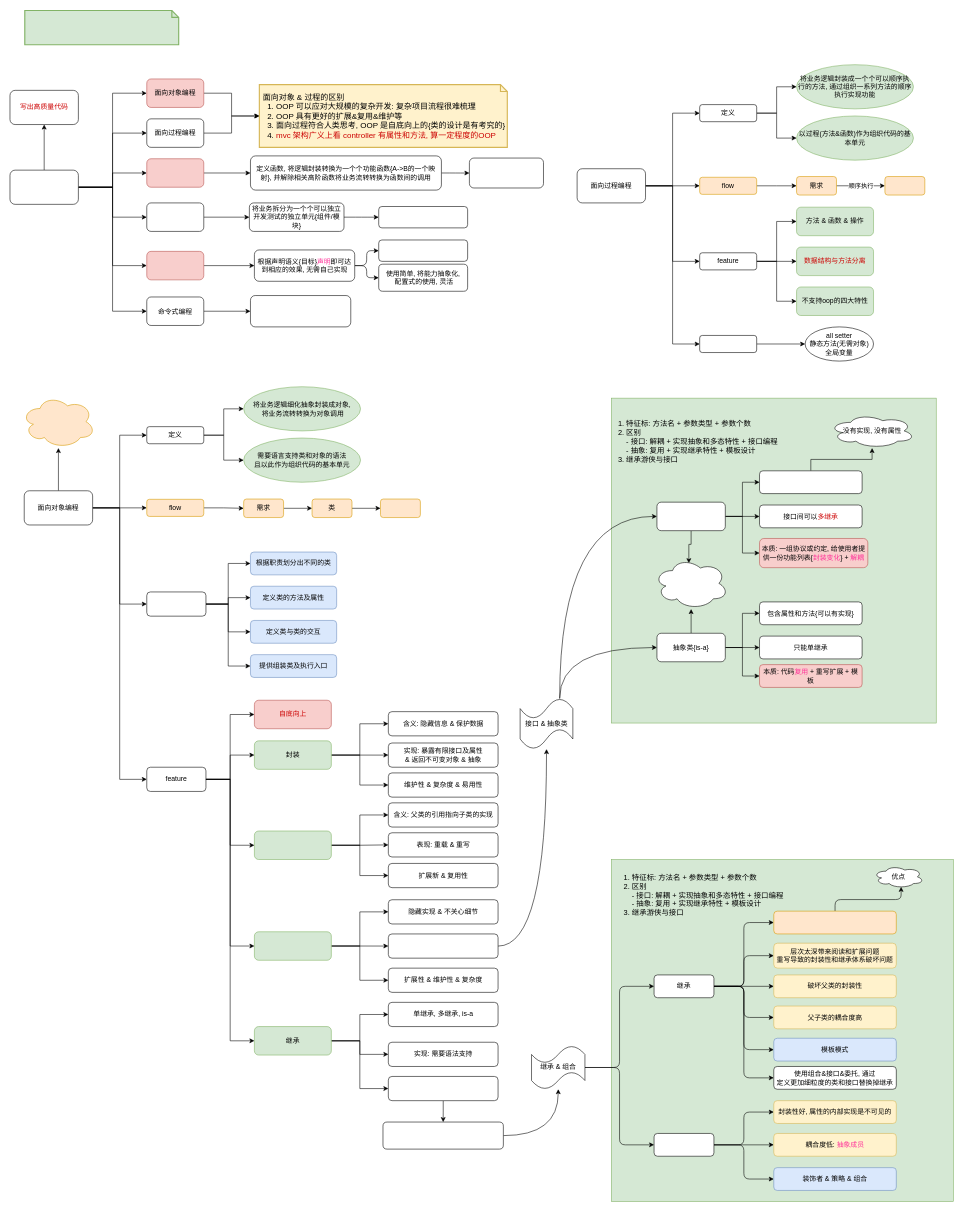
This 963x1211 diagram has some shape labels left out. The shapes that lost their labels are listed below. From the top down, each one's centre as x and y in pixels, then its label:
(x=101, y=27): 1. 程序: 算法 + 数据结构 2. OOP 的本质: 把代码规划到合适的类中
(x=43, y=187): 主流的变成风格
(x=175, y=172): 函数式编程
(x=506, y=172): 面向过程 + 数学 计算
(x=904, y=185): 方法
(x=175, y=216): 组件化编程
(x=423, y=217): 组件是具体的可复用 的通用抽象, 多用于前端
(x=175, y=265): 声明式编程
(x=423, y=250): 声明式事务 声明延迟消费
(x=300, y=311): 一步步 定义实现
(x=728, y=344): 表现
(x=58, y=421): 面向接口编程 贫/充血模型 高内聚投河
(x=810, y=482): 一系列方法的声明与常量的集合
(x=400, y=508): 方法 & 属性
(x=690, y=516): 接口
(x=176, y=603): 实现步骤
(x=691, y=583): 都不能实例化 都可以声明变量 必须实现所有方法
(x=292, y=845): 多态
(x=834, y=922): 代码复用 + 模板定义 + is-a + 重写多态 + 简单
(x=292, y=945): 抽象
(x=443, y=945): 实现: 接口{has-a} & 抽象
(x=443, y=1088): 复用性 & 扩展性 & 深层次代价
(x=442, y=1135): 可以使用组合 & 接口 & 委托代替继承
(x=684, y=1144): 组合
